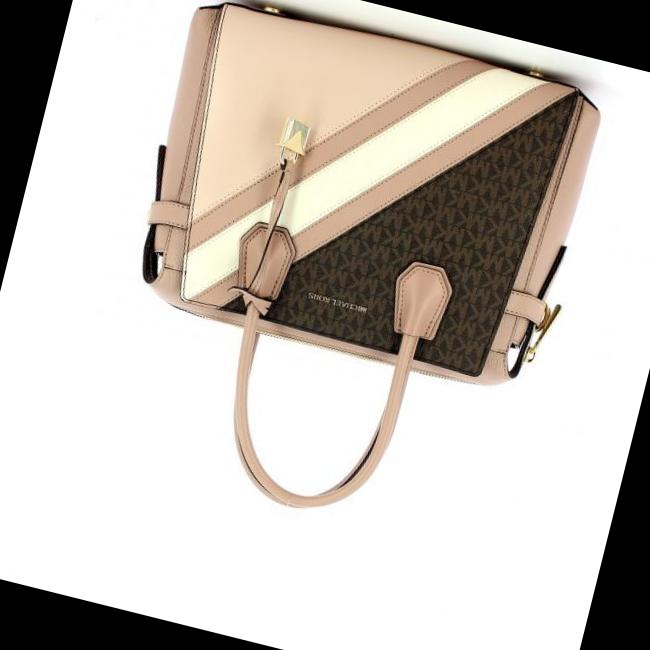MICHAEL-KORS: (306, 290, 366, 312)
